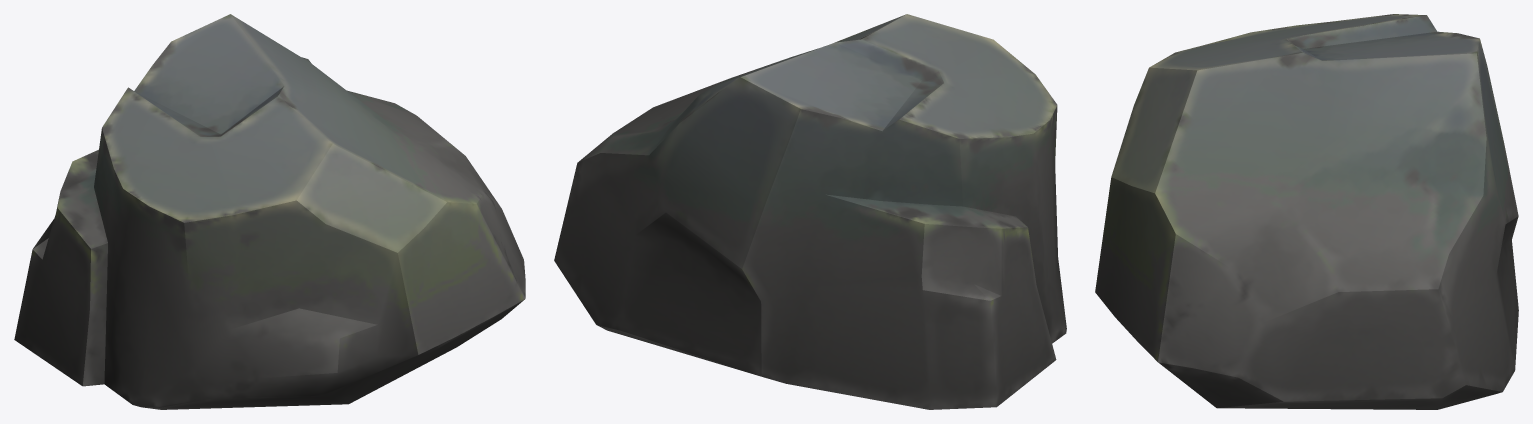
File: rock_cluster.gltf
3 renders of one model, left to right at view 1: azimuth 30°, elevation 25°; view 2: azimuth 150°, elevation 25°; view 3: azimuth 270°, elevation 25°, orthographic. The views are drawn at different scales.
Visible parts, largest first — view 1: rock_cluster.001; view 2: rock_cluster.001; view 3: rock_cluster.001.
Part boxes in pixels (x1=…): rock_cluster.001: x1=14, y1=14, x2=525, y2=409; rock_cluster.001: x1=554, y1=14, x2=1066, y2=409; rock_cluster.001: x1=1095, y1=14, x2=1518, y2=409.
Bounding box in the file's own units: 1.97 × 1.23 × 1.61.
1 material, 1 textured.
